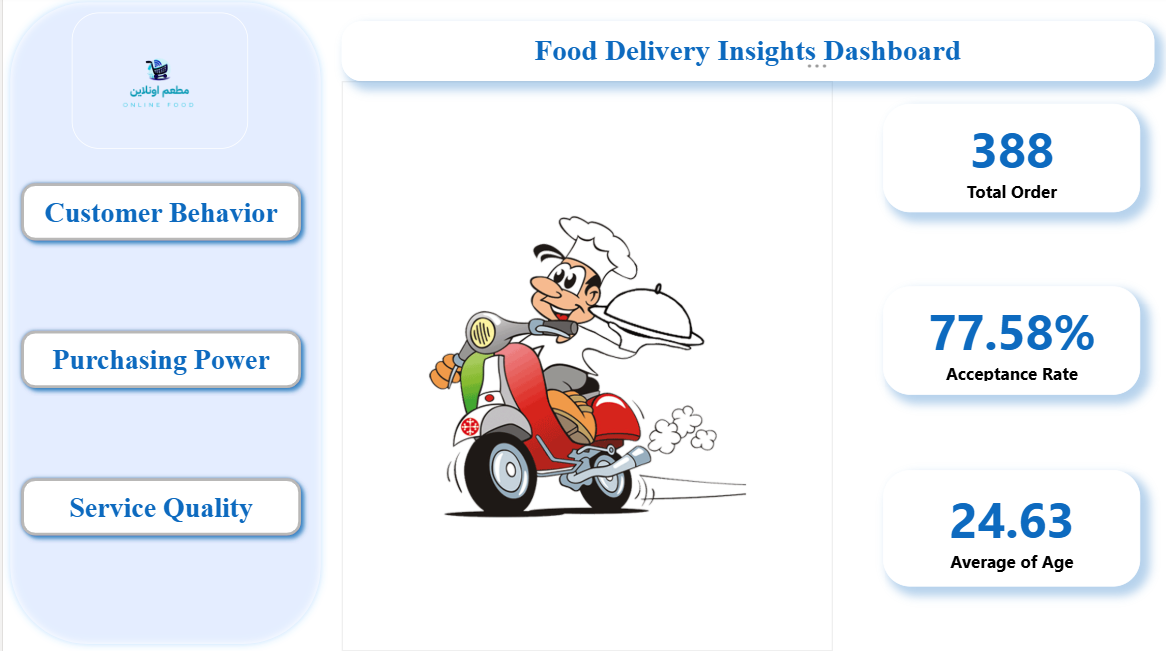

This screenshot's page, from the dashboard's own definition file:
{"tool":"powerbi","page":{"name":"Home Page","canvas":[1280,720],"ordinal":0},"visuals":[{"type":"image","box":[371.9,94.7,539.3,625.7],"z":0},{"type":"shape","box":[0,0,356.8,720.4],"z":1000},{"type":"actionButton","title":"Segment Profile","box":[11,198,325.2,81],"z":2000},{"type":"actionButton","title":"Segment Profile","box":[11,359.9,325.2,81],"z":3000},{"type":"actionButton","title":"Segment Profile","box":[11,521.8,325.2,81],"z":4000},{"type":"image","box":[75.5,19.2,193.5,149.6],"z":5000},{"type":"textbox","box":[371.9,28.8,891.9,65.9],"z":6000},{"type":"card","fields":{"Values":["CountNonNull(Table1.Occupation)"]},"box":[966,119.4,282.7,119.4],"z":7000},{"type":"card","fields":{"Values":["Table1.Acceptance Rate"]},"box":[966,320.4,282.7,119.4],"z":8000},{"type":"card","fields":{"Values":["Avg(Table1.Age)"]},"box":[966,521.4,282.7,127.6],"z":9000}]}

Visuals, with their boxes in screenshot pixels (x1, y1, x2, y2), scaled from the page's 1280x720 canvas onto the 1166x651 screenshot:
image: {"left": 339, "top": 86, "right": 830, "bottom": 650}
shape: {"left": 0, "top": 0, "right": 325, "bottom": 650}
"Segment Profile" actionButton: {"left": 10, "top": 179, "right": 306, "bottom": 252}
"Segment Profile" actionButton: {"left": 10, "top": 325, "right": 306, "bottom": 399}
"Segment Profile" actionButton: {"left": 10, "top": 472, "right": 306, "bottom": 545}
image: {"left": 69, "top": 17, "right": 245, "bottom": 153}
textbox: {"left": 339, "top": 26, "right": 1151, "bottom": 86}
card - CountNonNull(Table1.Occupation): {"left": 880, "top": 108, "right": 1137, "bottom": 216}
card - Table1.Acceptance Rate: {"left": 880, "top": 290, "right": 1137, "bottom": 398}
card - Avg(Table1.Age): {"left": 880, "top": 471, "right": 1137, "bottom": 587}
